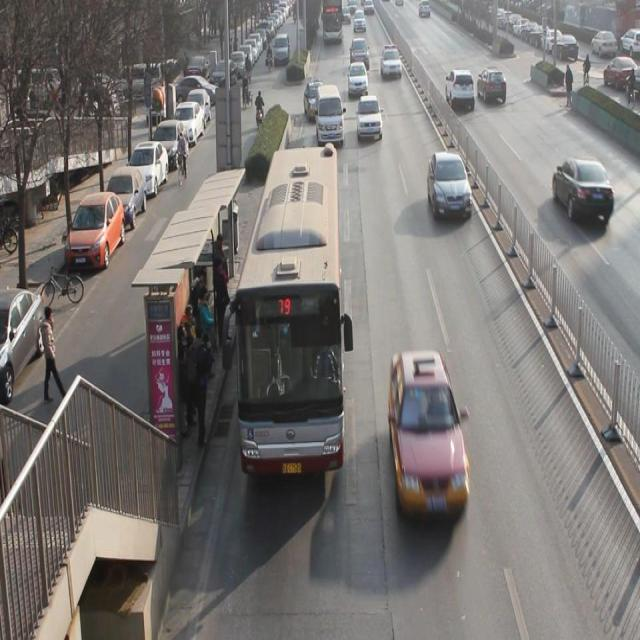car: (389, 352, 474, 518), (556, 158, 615, 226), (428, 151, 473, 225), (447, 66, 475, 117), (357, 95, 384, 141), (479, 66, 508, 108), (304, 80, 327, 120), (380, 44, 405, 80), (350, 38, 372, 72), (347, 64, 369, 96)
truck: (314, 84, 345, 145)
van: (236, 147, 343, 475), (322, 1, 343, 44)
